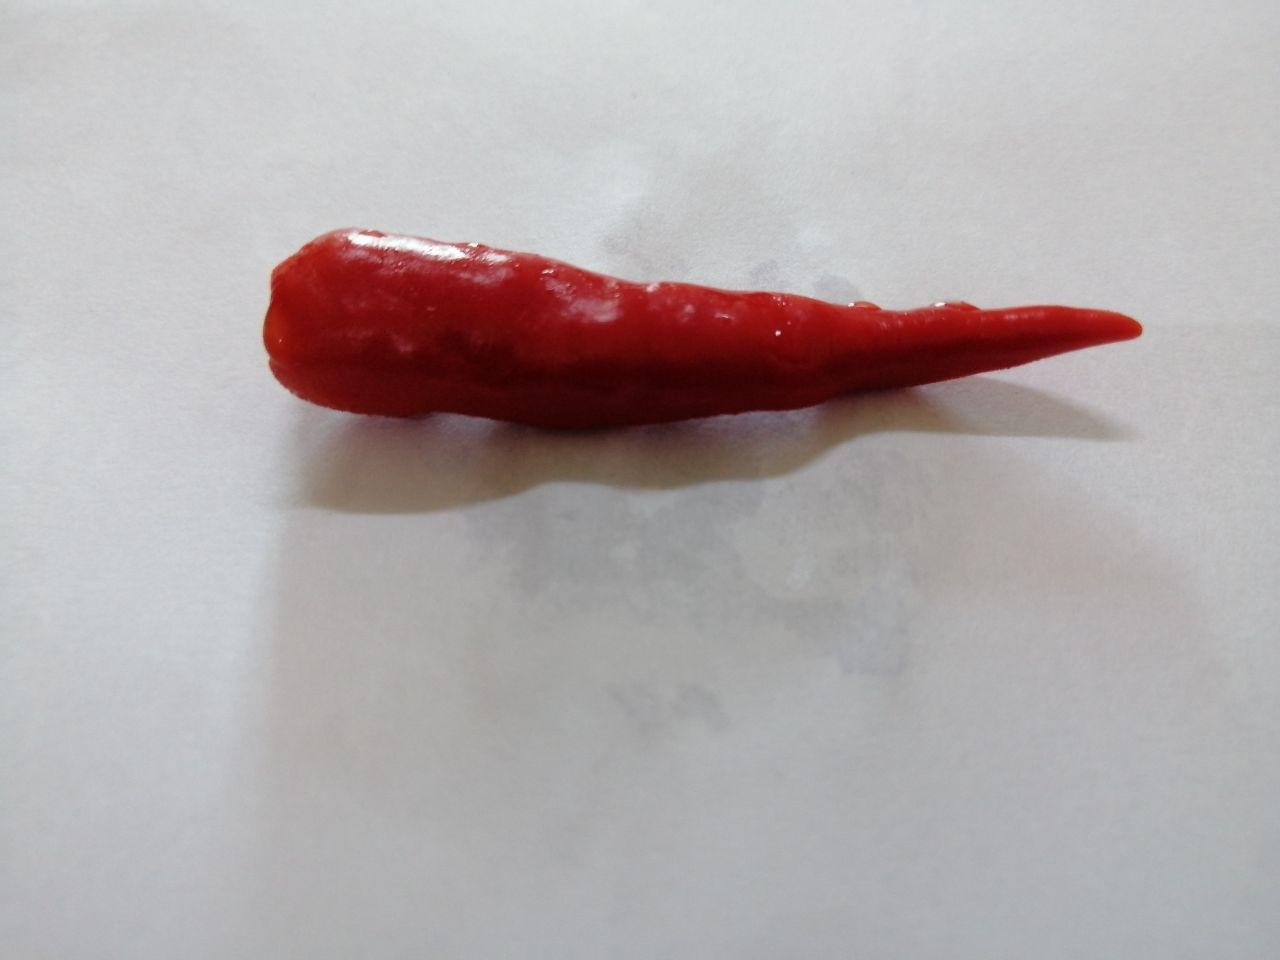lada merah: (241, 190, 1168, 468)
